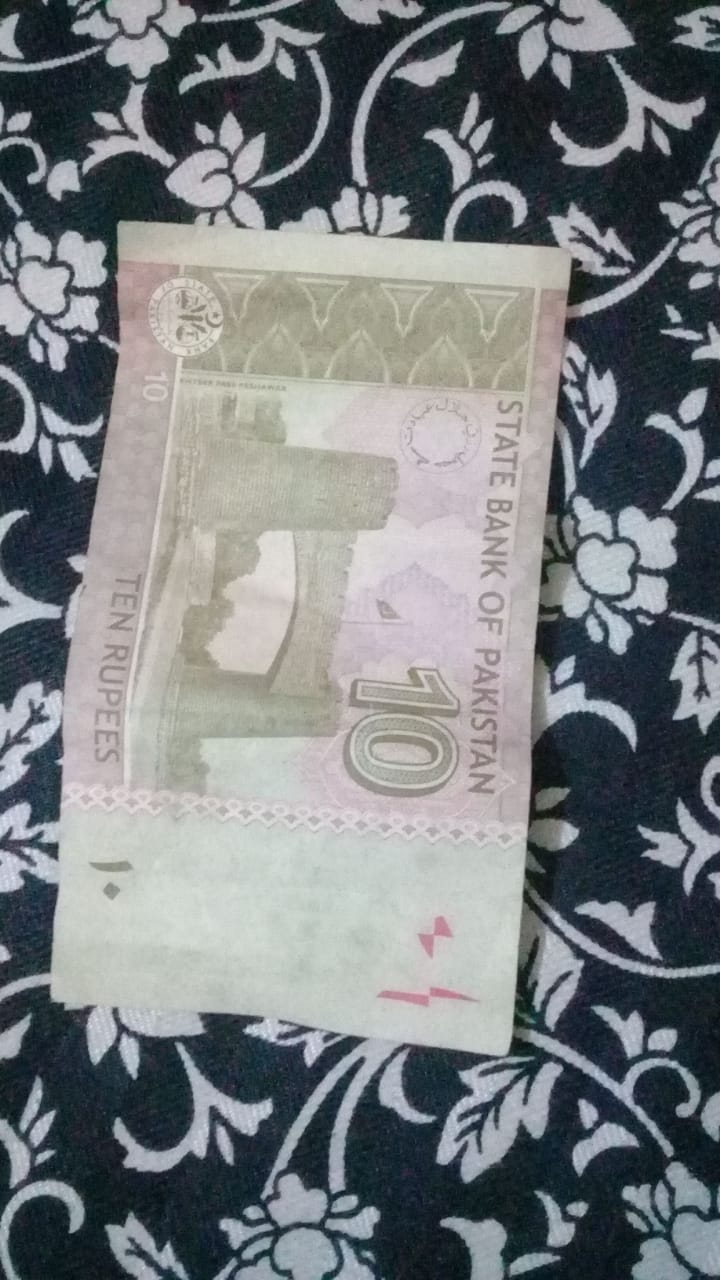10 rupee: (28, 221, 567, 1062)
